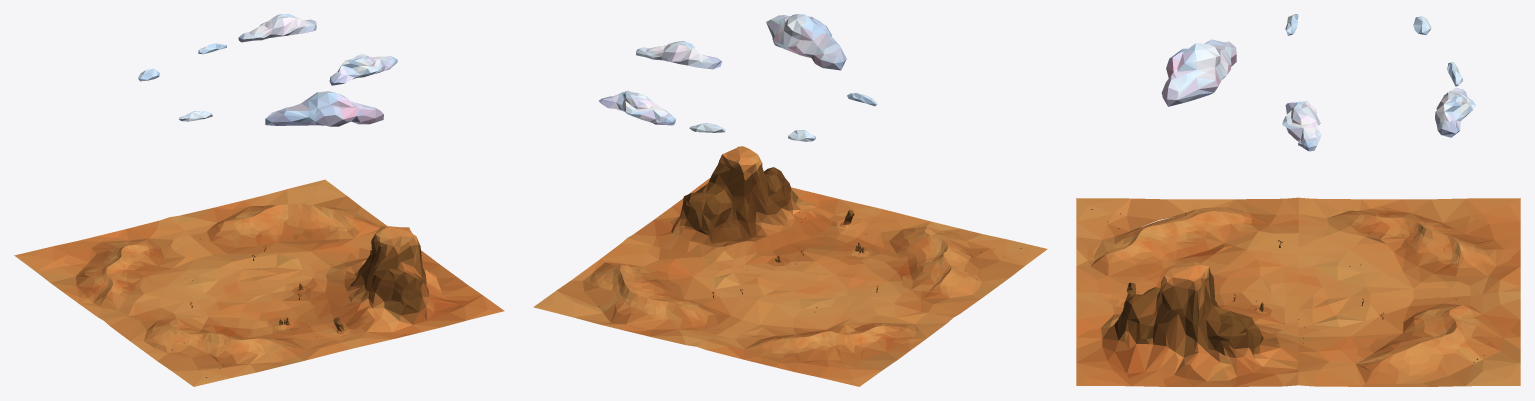
The model's file is Dunes Path Tile by Google Data Arts Team - mfN1MSSF4E.glb.
3 renders of one model, left to right at view 1: azimuth 30°, elevation 25°; view 2: azimuth 150°, elevation 25°; view 3: azimuth 270°, elevation 25°, orthographic. The views are drawn at different scales.
Visible parts, largest first — view 1: D_tile_walk, D_tile_walk_Cloud; view 2: D_tile_walk, D_tile_walk_Cloud; view 3: D_tile_walk, D_tile_walk_Cloud.
Boxes of the visible parts, bbox=[...] form: D_tile_walk: bbox=[14, 179, 504, 386]; D_tile_walk_Cloud: bbox=[138, 14, 397, 126]; D_tile_walk: bbox=[533, 146, 1047, 386]; D_tile_walk_Cloud: bbox=[599, 14, 877, 141]; D_tile_walk: bbox=[1076, 197, 1520, 386]; D_tile_walk_Cloud: bbox=[1161, 14, 1476, 151].
Bounding box in the file's own units: 30000 × 20296 × 30000.
